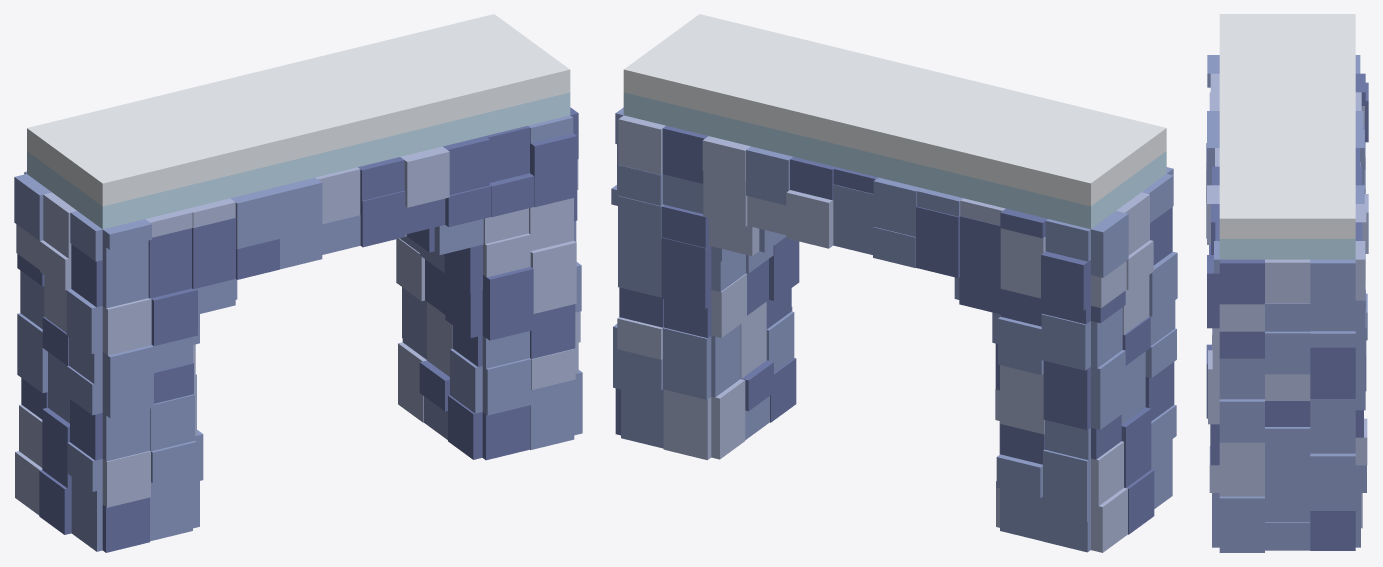
File: IceArch.glb
3 views of the same model, side by side, from view 1: azimuth 30°, elevation 25°; view 2: azimuth 150°, elevation 25°; view 3: azimuth 270°, elevation 25° (orthographic). The views are drawn at different scales.
Parts seen in each view (by area): view 1: IceArch; view 2: IceArch; view 3: IceArch.
Boxes of the visible parts, x1,y1,x2,y2 form: IceArch: [14, 14, 582, 552]; IceArch: [611, 14, 1177, 552]; IceArch: [1206, 14, 1368, 552].
Bounding box in the file's own units: 33.73 × 24 × 10.75.
1 material, 1 textured.
